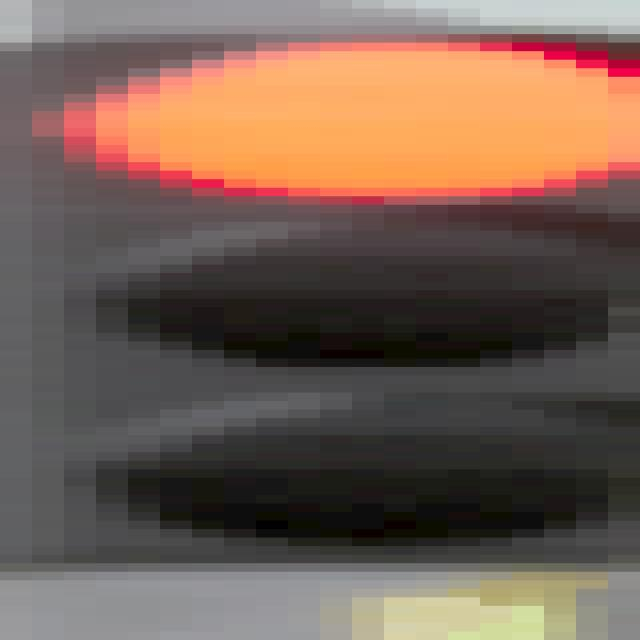red_light: (0, 33, 640, 549)
